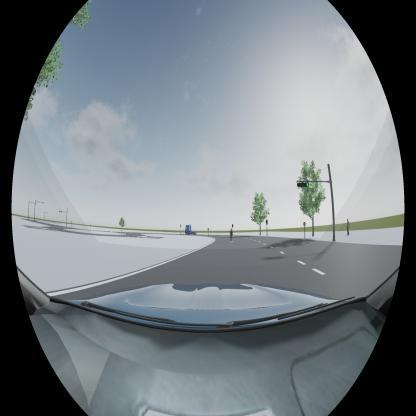Green Light: (297, 181, 309, 188), (266, 220, 268, 225)
Red Light: (232, 224, 233, 227)
